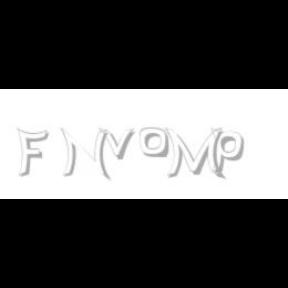F: (16, 128, 48, 178)
M: (164, 128, 224, 180)
N: (60, 128, 109, 180)
o: (140, 128, 168, 158)
p: (210, 128, 248, 174)
v: (99, 128, 139, 160)
